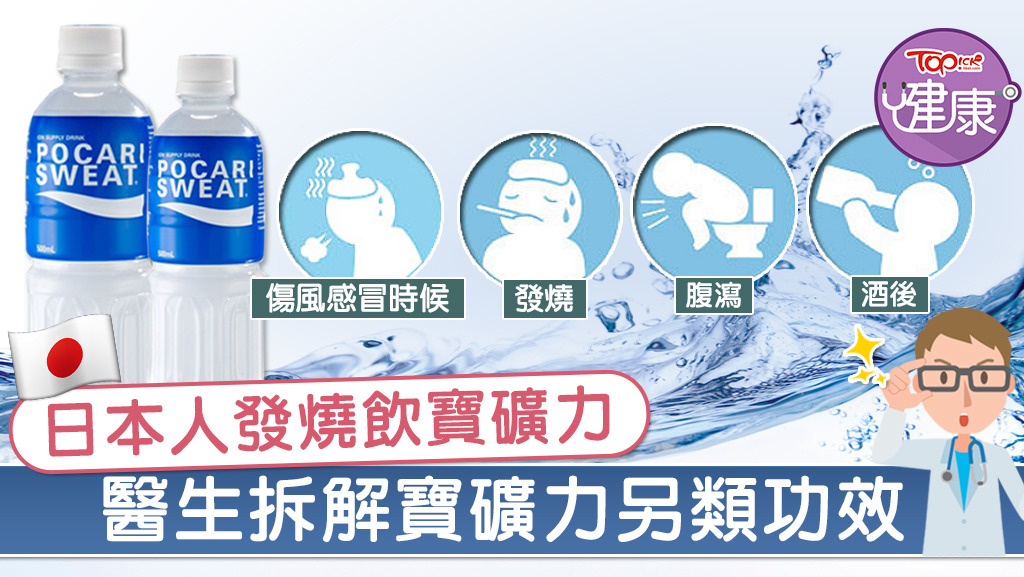POCARI SWEAT: (24, 26, 148, 386), (146, 51, 264, 384)
